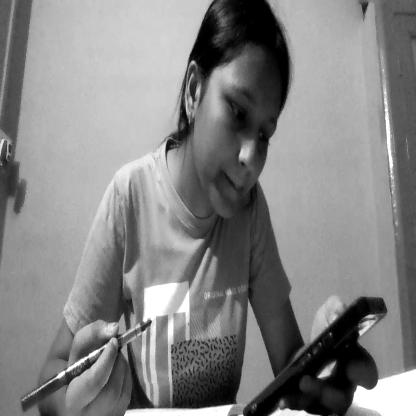Distracted: (182, 0, 296, 224)
